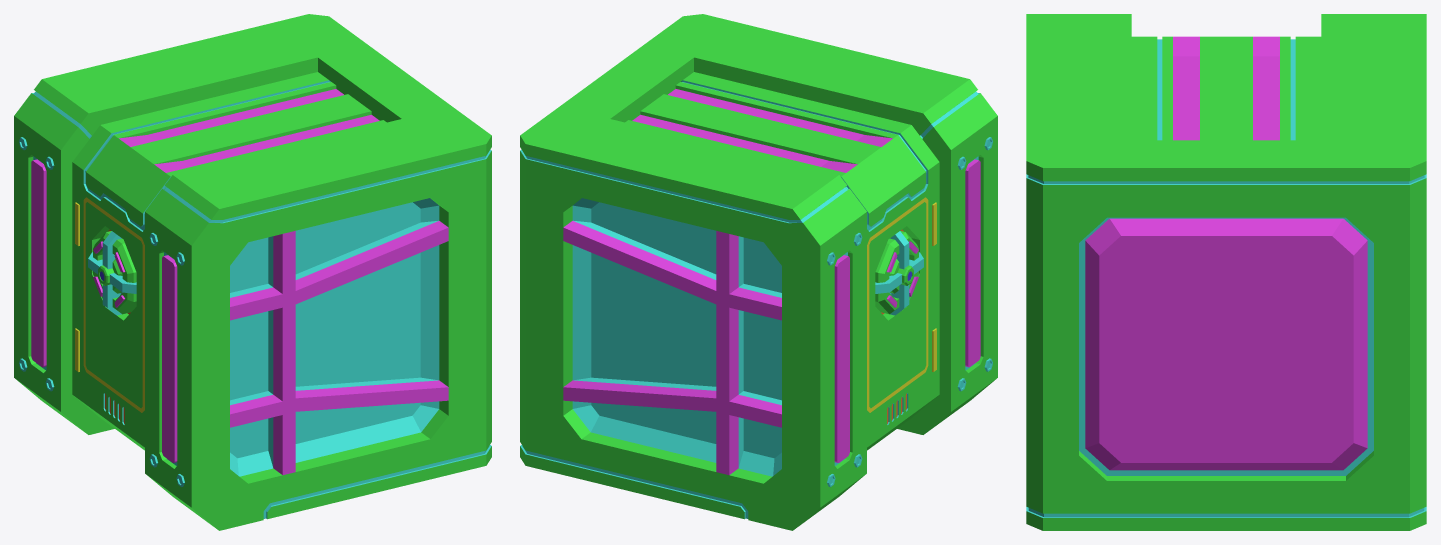
Rendered from Crate_03.fbx.
The picture shows the model from 3 angles, left to right: view 1: azimuth 30°, elevation 25°; view 2: azimuth 150°, elevation 25°; view 3: azimuth 270°, elevation 25°; orthographic projection. The views are drawn at different scales.
Visible parts, largest first — view 1: Crate_03; view 2: Crate_03; view 3: Crate_03.
Boxes of the visible parts, x1,y1,x2,y2 form: Crate_03: [14, 14, 491, 530]; Crate_03: [520, 14, 997, 530]; Crate_03: [1026, 14, 1426, 530].
Bounding box in the file's own units: 123 × 122 × 122.
